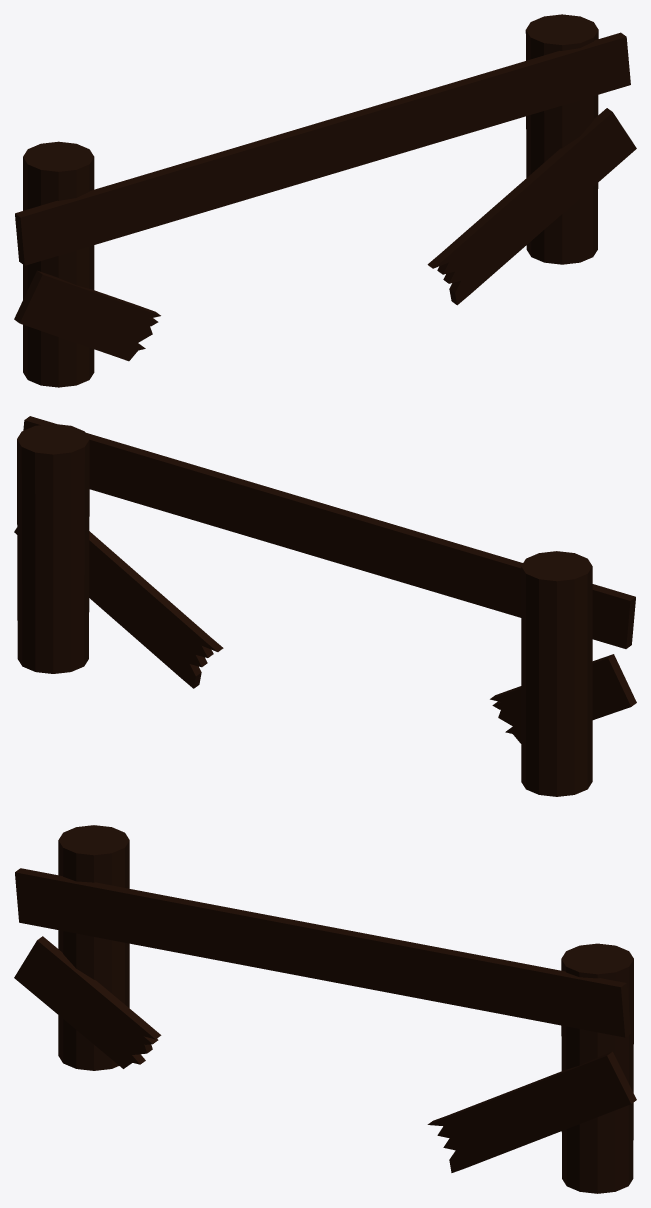
The model's file is Fence Long1.FBX.
3 renders of one model, top to bottom at view 1: azimuth 30°, elevation 25°; view 2: azimuth 150°, elevation 25°; view 3: azimuth 330°, elevation 25°, orthographic.
Visible parts, largest first — view 1: Box004, Object003, Cylinder002, Object002, Box003; view 2: Box004, Object002, Cylinder002, Object003, Box003; view 3: Box004, Object003, Object002, Cylinder002, Box003.
Boxes of the visible parts, box(x1,y1,x2,y2) form: Box004: box(15, 32, 630, 265); Object003: box(427, 108, 636, 305); Cylinder002: box(23, 141, 94, 387); Object002: box(525, 14, 598, 264); Box003: box(14, 270, 160, 361); Box004: box(23, 416, 635, 648); Object002: box(17, 423, 89, 673); Cylinder002: box(521, 551, 592, 796); Object003: box(14, 527, 223, 688); Box003: box(490, 654, 636, 743); Box004: box(15, 868, 630, 1037); Object003: box(427, 1051, 636, 1172); Object002: box(561, 943, 633, 1193); Cylinder002: box(58, 825, 129, 1070); Box003: box(14, 936, 161, 1068).
Bounding box in the file's own units: 53.6 × 19.08 × 5.83.
